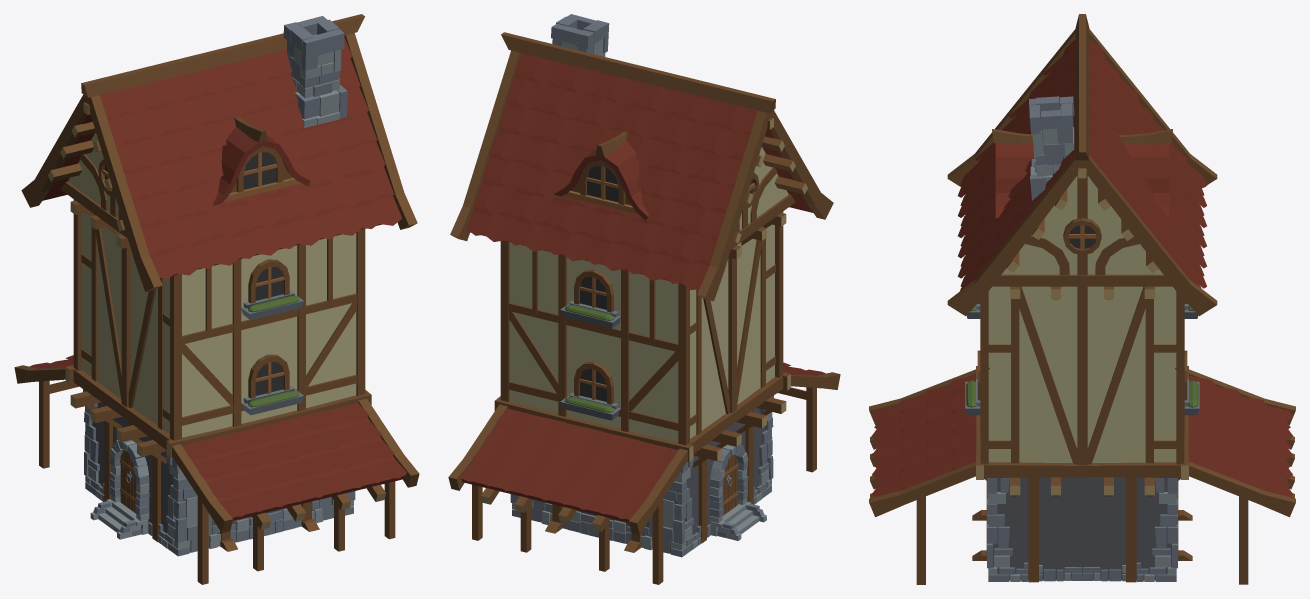
File: mill.002_lev2.glb
3 views of the same model, side by side, from view 1: azimuth 30°, elevation 25°; view 2: azimuth 150°, elevation 25°; view 3: azimuth 270°, elevation 25° (orthographic). The views are drawn at different scales.
Parts seen in each view (by area): view 1: mill.002_lev2; view 2: mill.002_lev2; view 3: mill.002_lev2.
Part boxes in pixels (x1,y1,x2,y2): mill.002_lev2: (14,14,419,584); mill.002_lev2: (448,14,840,584); mill.002_lev2: (869,14,1295,584).
Bounding box in the file's own units: 5.24 × 8.29 × 6.79.
